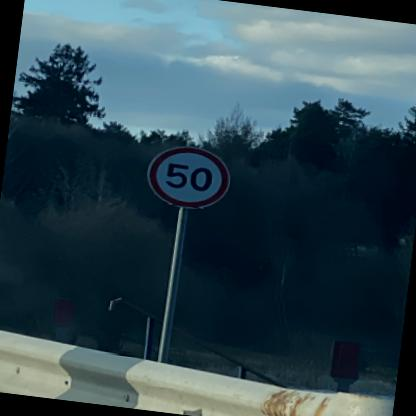speedlimit: (142, 139, 231, 211)
